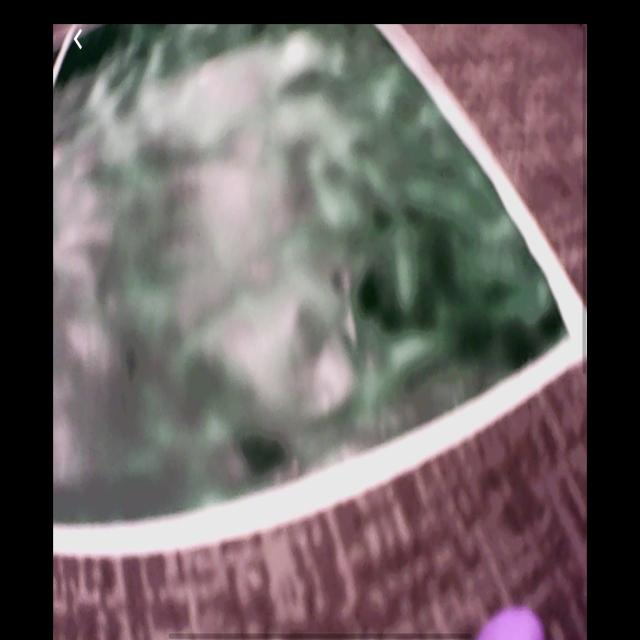ball: (474, 610, 546, 640)
